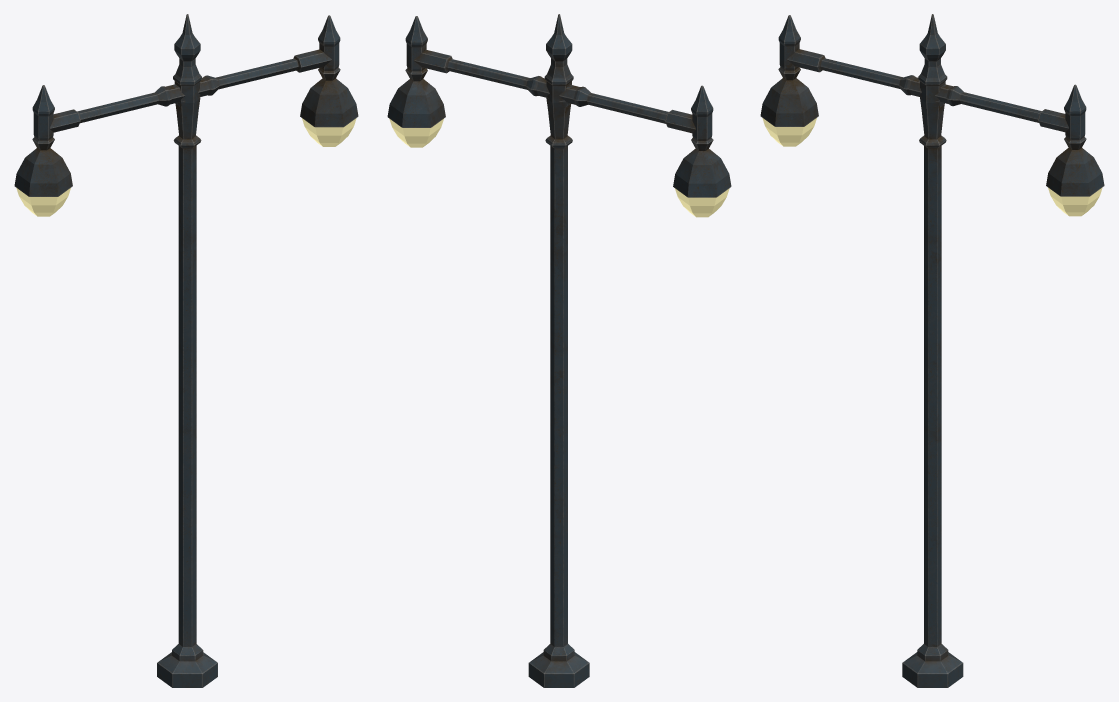
File: BridgeLamp_001.fbx
3 renders of one model, left to right at view 1: azimuth 30°, elevation 25°; view 2: azimuth 150°, elevation 25°; view 3: azimuth 330°, elevation 25°, orthographic.
Visible parts, largest first — view 1: BridgeLamp_001; view 2: BridgeLamp_001; view 3: BridgeLamp_001.
Boxes of the visible parts, x1=… form: BridgeLamp_001: x1=14, y1=14, x2=358, y2=687; BridgeLamp_001: x1=387, y1=14, x2=731, y2=687; BridgeLamp_001: x1=760, y1=14, x2=1104, y2=687.
Size of the model in its own units: 546 by 1049 by 87.23.
Materials: 2 (1 with a texture image).
